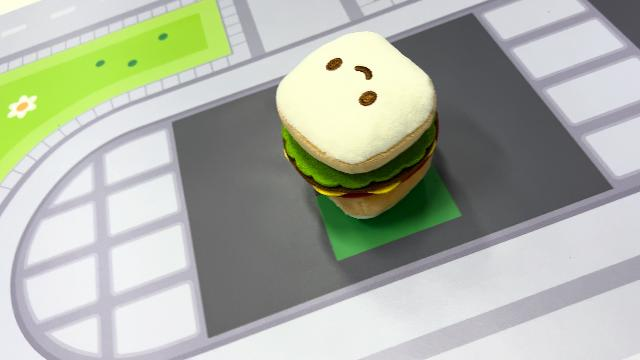sandwich: (273, 29, 443, 221)
